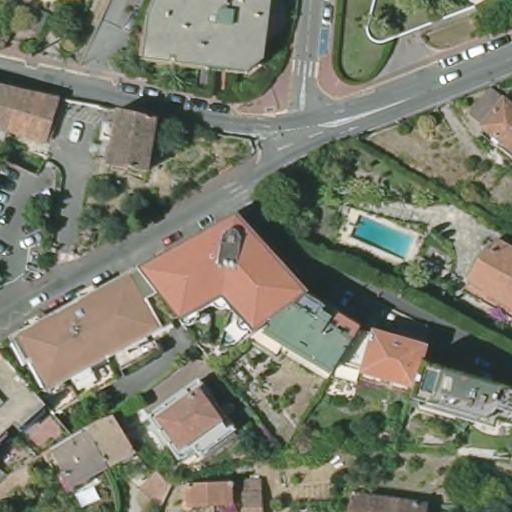pool: (350, 209, 421, 261)
